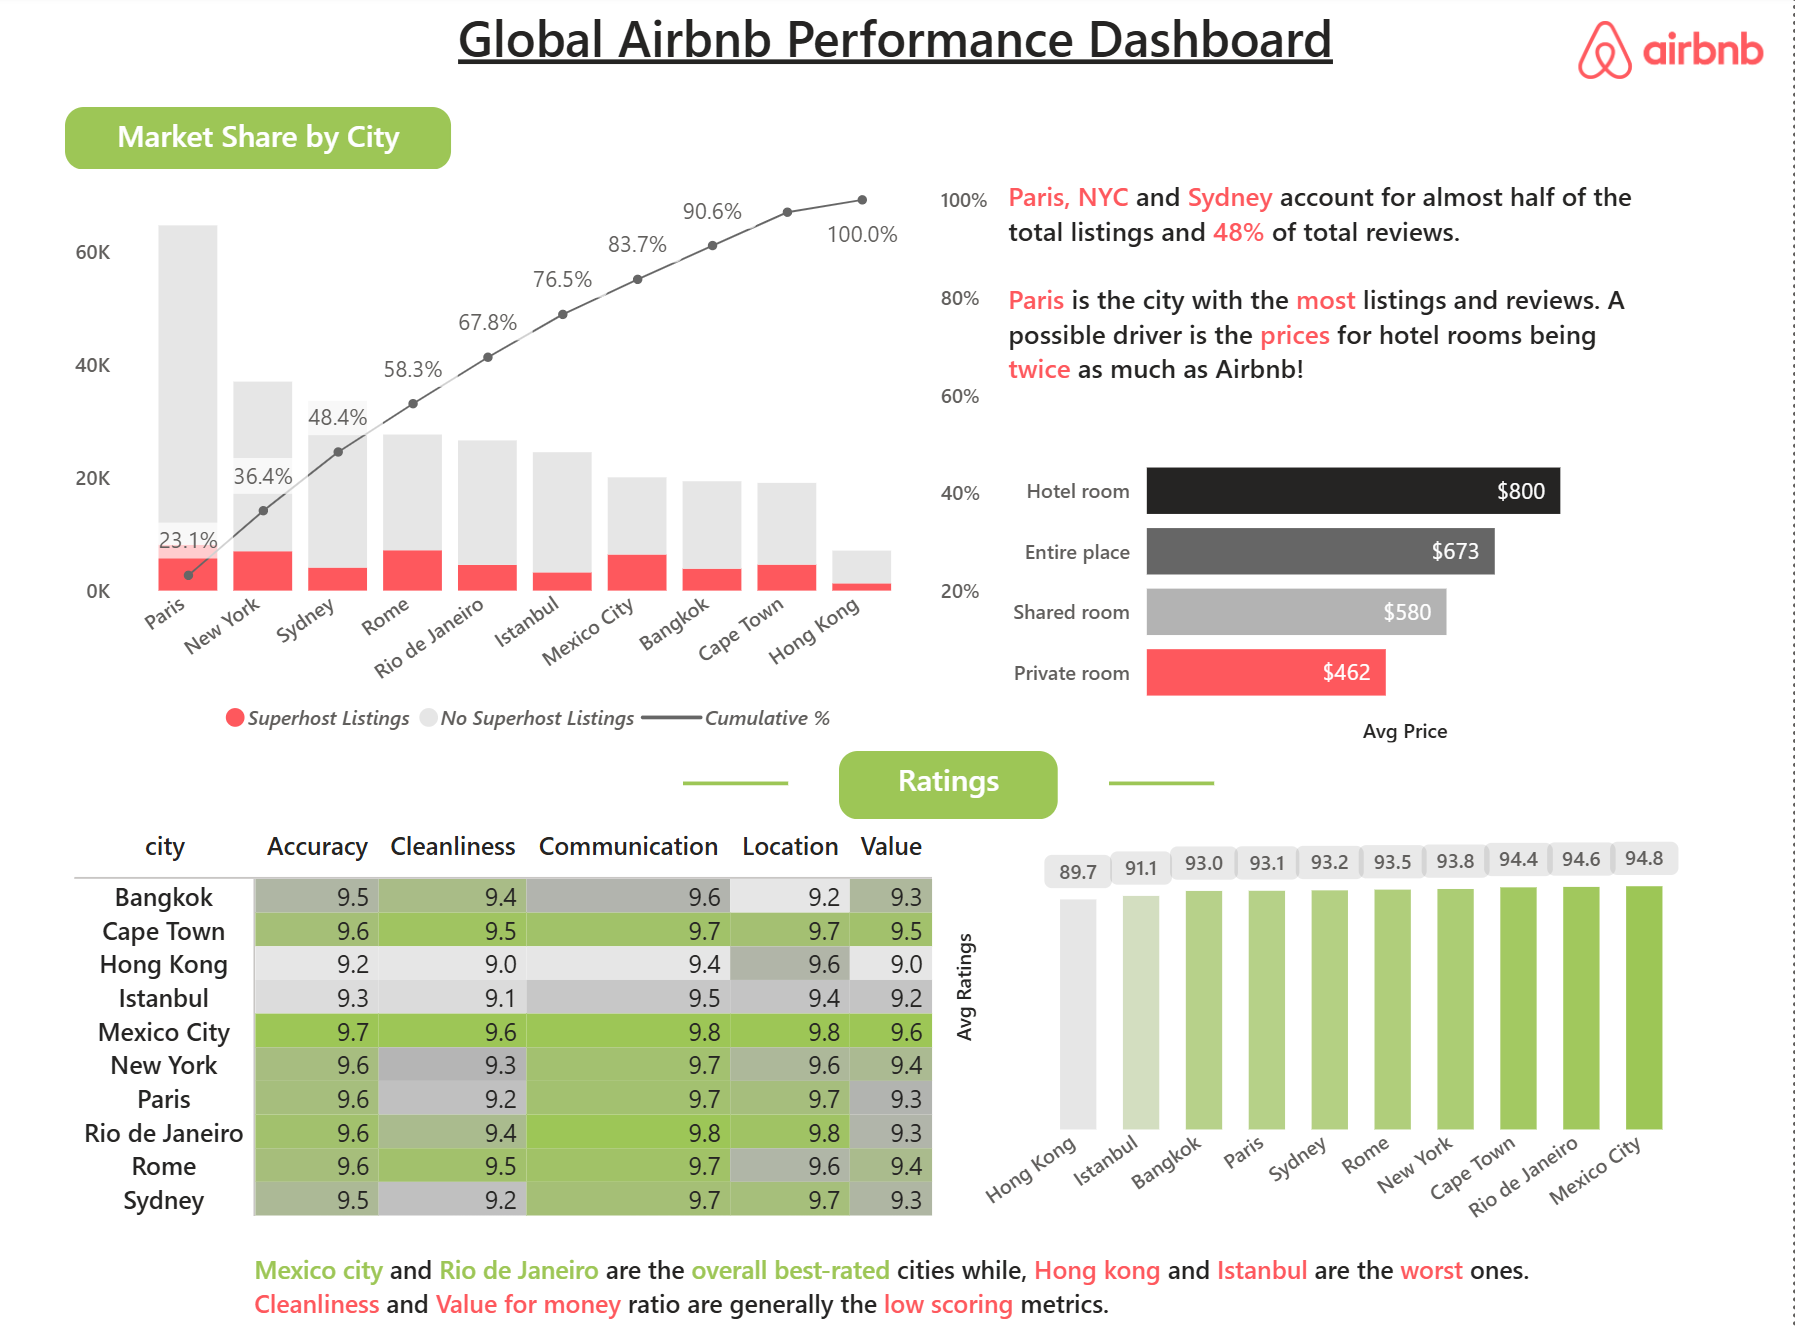

The dashboard page shown, as its layout file describes it:
{"tool":"powerbi","page":{"name":"Ratings","canvas":[960,720],"ordinal":1},"visuals":[{"type":"textbox","box":[217.6,0,524.8,60.9],"z":0},{"type":"image","box":[839.4,14.9,109.1,31],"z":1000},{"type":"textbox","box":[35.6,60.9,206.7,33.3],"z":2000},{"type":"textbox","box":[535.1,94.2,360.6,133.2],"z":3000},{"type":"lineStackedColumnComboChart","fields":{"Category":["Listings.city"],"Y":["Listings.Superhost Listings","Listings.No Superhost Listings"],"Y2":["Listings.Cumulative %"]},"box":[35.6,94.2,499.5,311.2],"z":4000},{"type":"clusteredBarChart","fields":{"Category":["Listings.room_type"],"Y":["Listings.Avg Price"]},"box":[536.3,227.4,359.4,178],"z":5000},{"type":"textbox","box":[449,405.4,117.1,36.7],"z":6000},{"type":"shape","box":[366.3,412.2,56.3,21.8],"z":7000},{"type":"shape","box":[593.7,412.2,56.3,21.8],"z":8000},{"type":"columnChart","fields":{"Category":["Listings.city"],"Y":["Listings.Avg Ratings"]},"box":[507.6,442.1,401.9,225.1],"z":9000},{"type":"pivotTable","fields":{"Rows":["Listings.city"],"Values":["Listings.Accuracy","Listings.Cleanliness","Listings.Communication","Listings.Location","Listings.Value"]},"box":[35.6,442.1,472,221.6],"z":10000},{"type":"textbox","box":[131.5,668.3,697,51.7],"z":11000}]}

Visuals, with their boxes in screenshot pixels (x1, y1, x2, y2), scaled from the page's 960x720 canvas onto the 1795x1328 screenshot:
textbox: 407/0/1388/112
image: 1570/27/1773/85
textbox: 67/112/453/174
textbox: 1001/174/1675/419
lineStackedColumnComboChart - Listings.city x Listings.Superhost Listings: 67/174/1001/748
clusteredBarChart - Listings.room_type x Listings.Avg Price: 1003/419/1675/748
textbox: 840/748/1058/815
shape: 685/760/790/800
shape: 1110/760/1215/800
columnChart - Listings.city x Listings.Avg Ratings: 949/815/1701/1231
pivotTable - Listings.city x Listings.Accuracy: 67/815/949/1224
textbox: 246/1233/1549/1327
